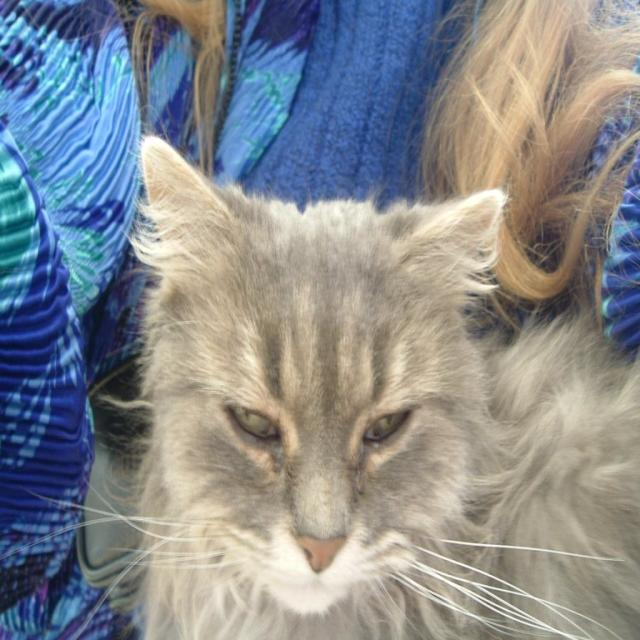Cat: (7, 127, 638, 638)
